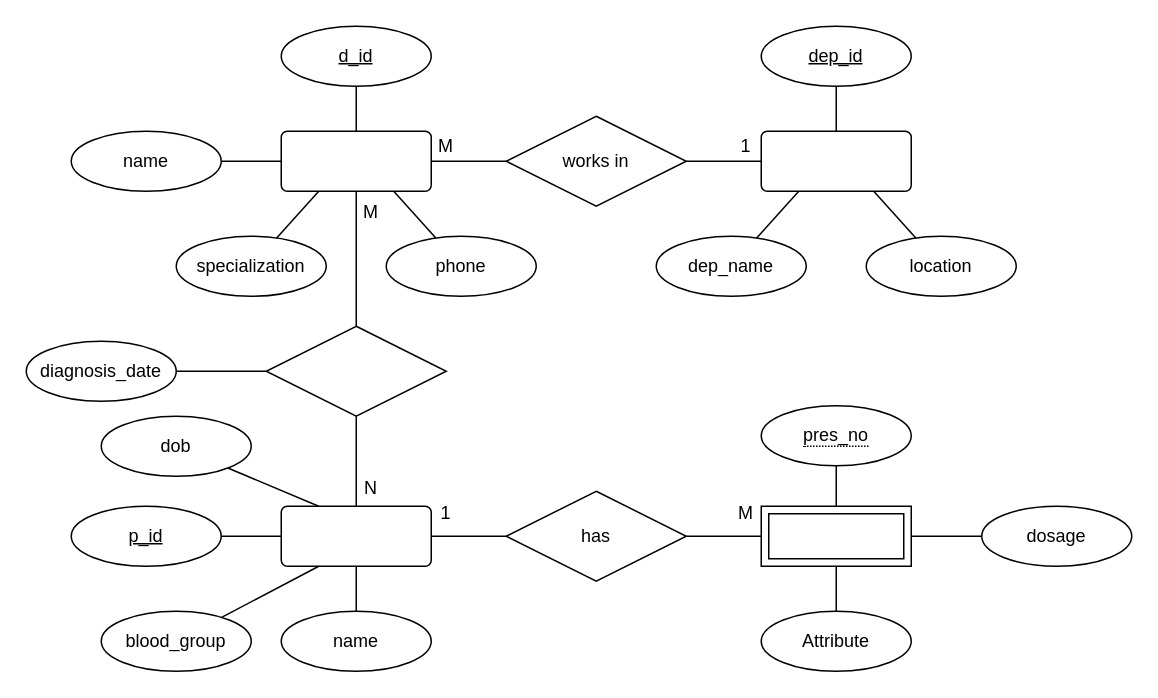
The diagram is 1158 pixels wide and 698 high, and some of its shapes have lost their labels. The shapes that lost their labels are listed below. From the top down, each one's centre as x and y in pixels, then its label:
[355,160]: Doctor
[835,160]: Department
[355,370]: treats
[355,535]: Patient
[835,535]: Prescription
